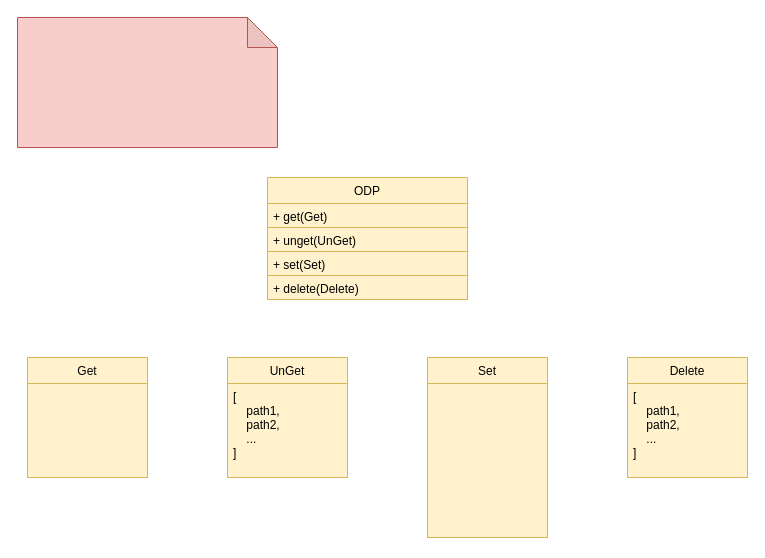
This 765x558 diagram has some shape labels left out. Each missing label, with the centre of its shape:
Online Data Protocol: point 147,82
{ path1: data1, path2: { index1: data1', index2: data2 }, ... }: point 487,460
{ path1: hash1, path2: "", ... }: point 87,430
